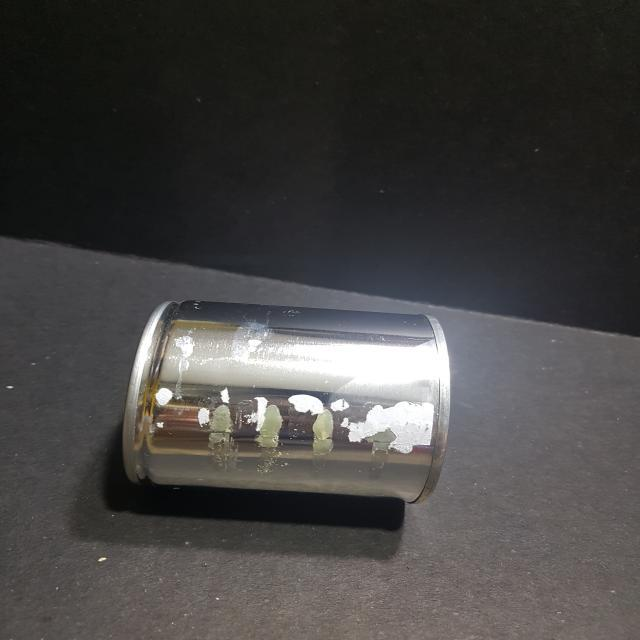metal-can: (115, 294, 452, 514)
